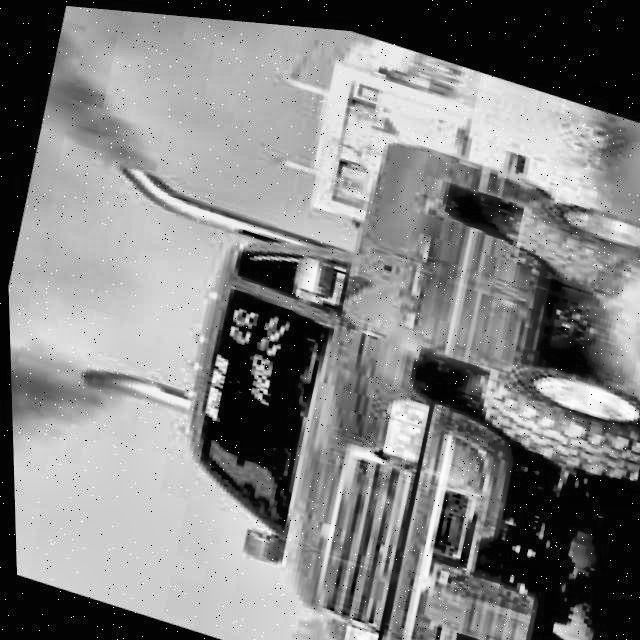Smoke: (27, 19, 174, 205), (7, 322, 125, 475)
